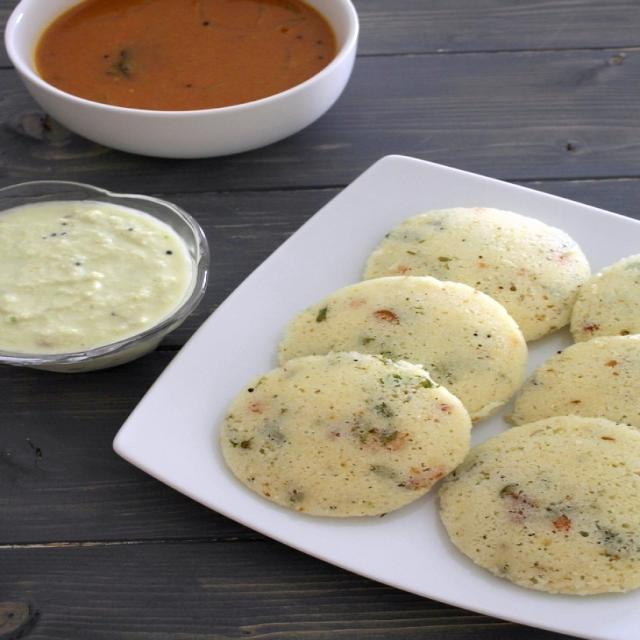rave idli: (213, 338, 477, 536), (282, 272, 536, 447), (439, 411, 640, 605), (358, 194, 596, 340), (512, 320, 640, 428), (562, 236, 640, 348)
